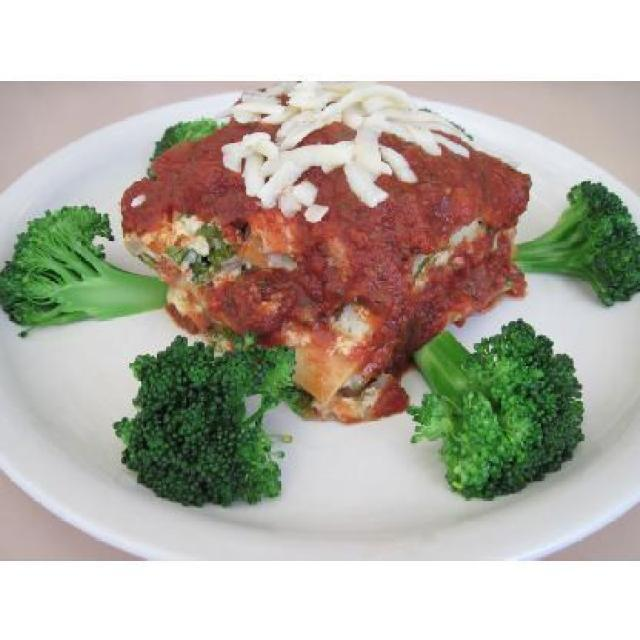Broccoli: (110, 333, 302, 507), (406, 316, 585, 499), (0, 205, 171, 338), (510, 179, 638, 307), (148, 118, 228, 180)
